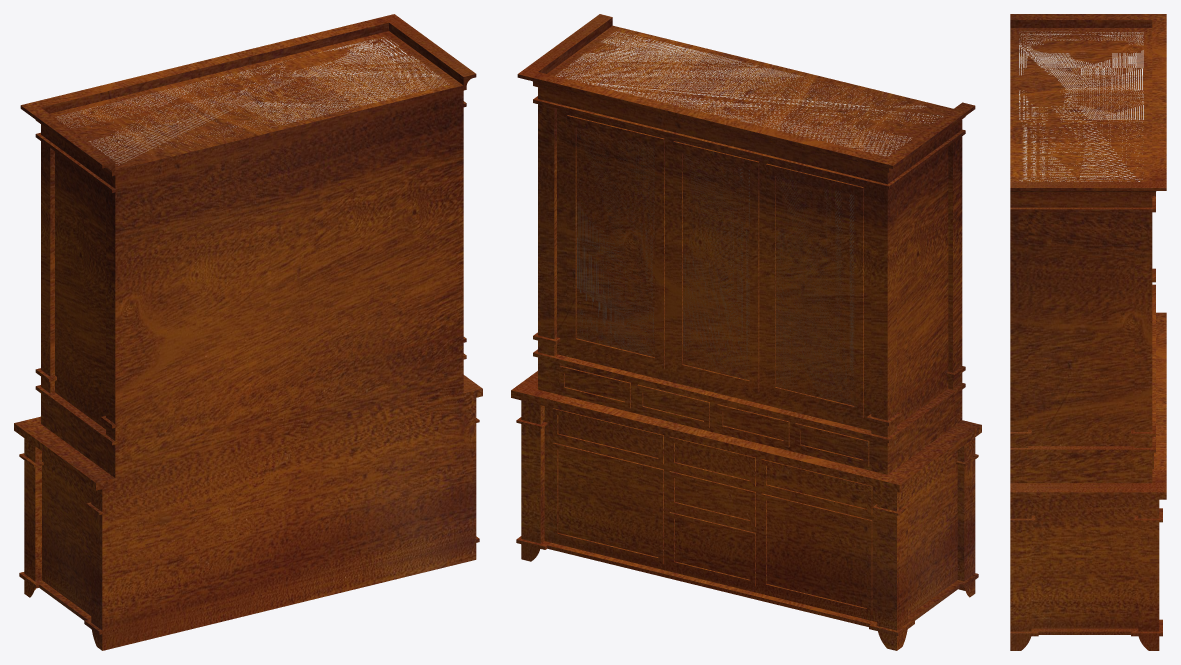
3 views of the same model, side by side, from view 1: azimuth 30°, elevation 25°; view 2: azimuth 150°, elevation 25°; view 3: azimuth 270°, elevation 25° (orthographic). The views are drawn at different scales.
Visible parts, largest first — view 1: mesh1_mesh1-geometry; view 2: mesh1_mesh1-geometry; view 3: mesh1_mesh1-geometry.
Boxes of the visible parts, x1=… form: mesh1_mesh1-geometry: x1=14, y1=14, x2=482, y2=650; mesh1_mesh1-geometry: x1=511, y1=14, x2=981, y2=650; mesh1_mesh1-geometry: x1=1010, y1=14, x2=1166, y2=650.
Bounding box in the file's own units: 0.6232 × 0.7479 × 0.2285.
